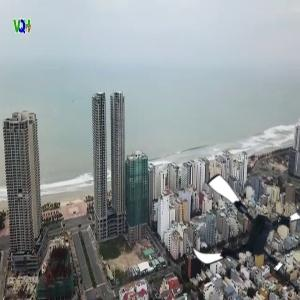drone: (187, 171, 300, 284)
